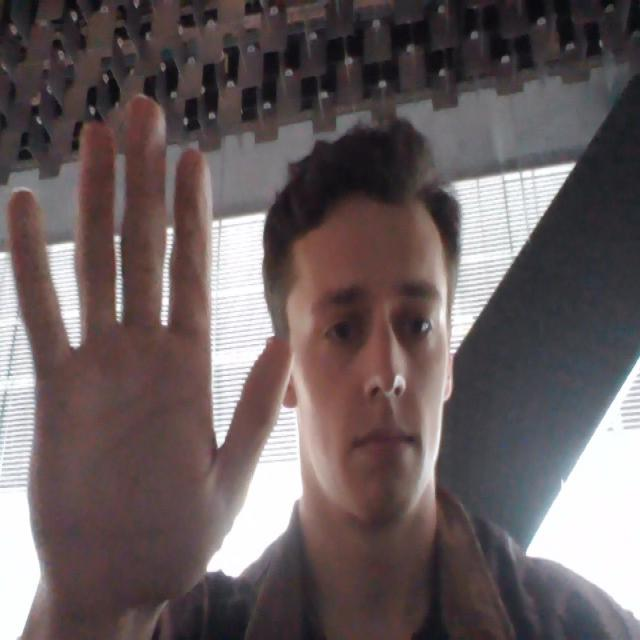backward: (9, 91, 290, 618)
